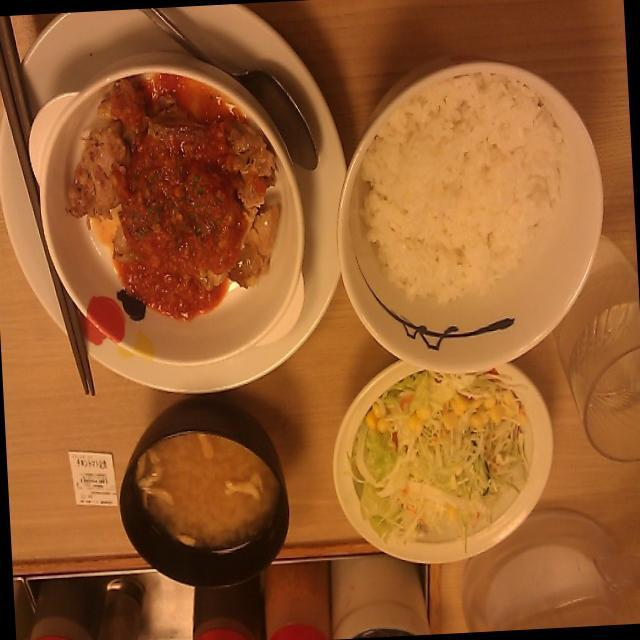Rice: (348, 60, 583, 324)
